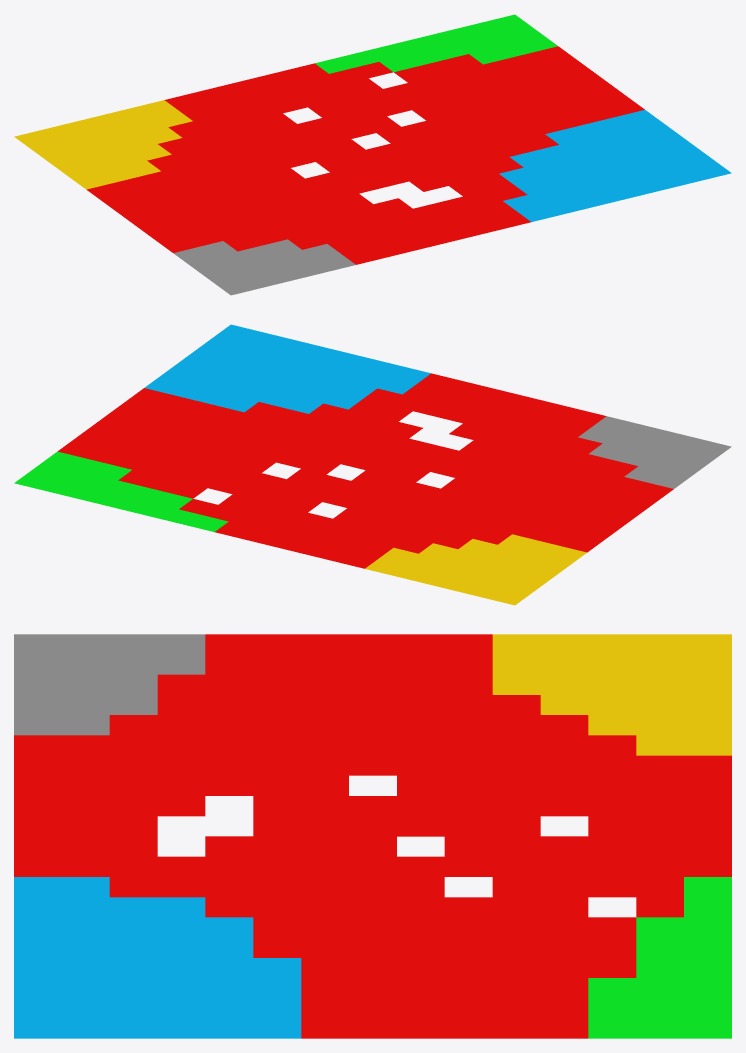
Rendered from PlaneFBX.FBX.
3 views of the same model, one above another, from view 1: azimuth 30°, elevation 25°; view 2: azimuth 150°, elevation 25°; view 3: azimuth 270°, elevation 25° (orthographic). The views are drawn at different scales.
Visible parts, largest first — view 1: Plane001; view 2: Plane001; view 3: Plane001.
Part boxes in pixels (box(x1,y1,x2,y2)): Plane001: box(14, 14, 731, 295); Plane001: box(14, 324, 731, 605); Plane001: box(14, 634, 731, 1038).
Size of the model in its own units: 50000 by 2.3e-12 by 37500.
